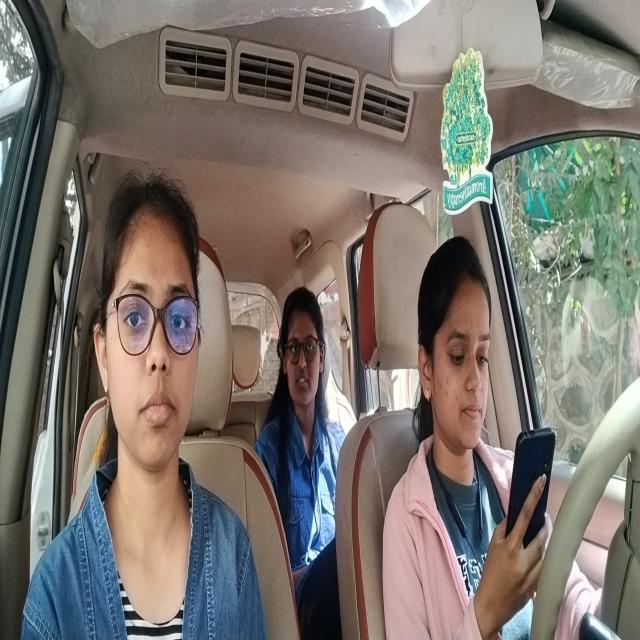mobile: (510, 412, 558, 567)
person: (92, 158, 220, 488), (413, 226, 494, 479), (270, 276, 330, 440)
